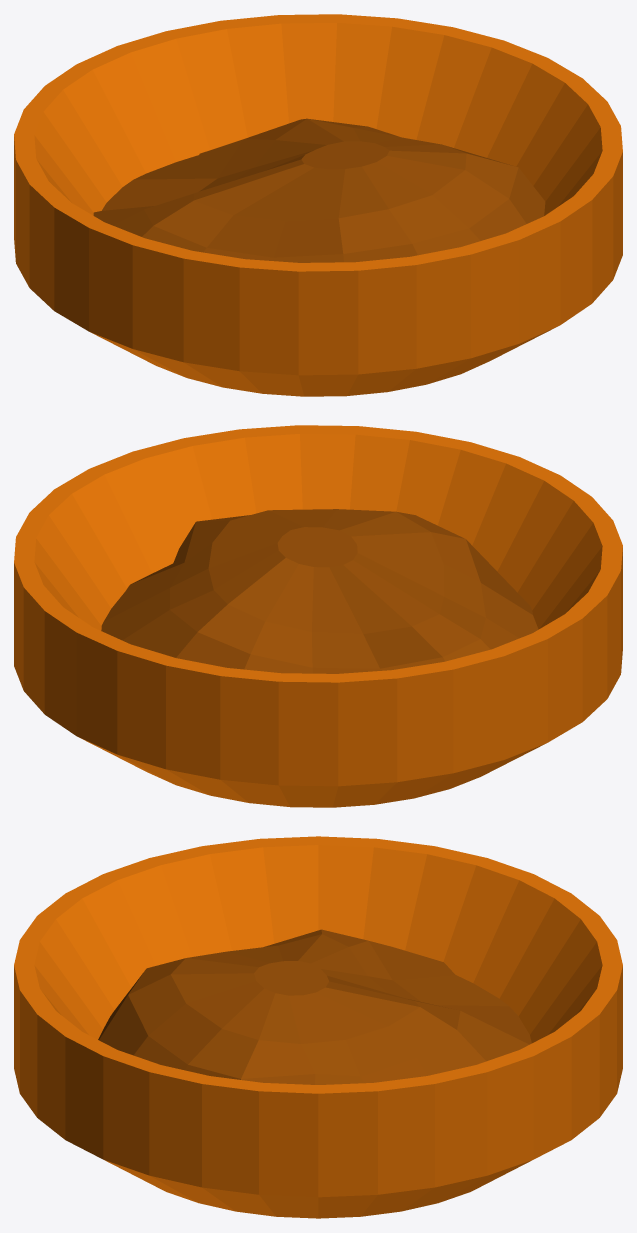
Rendered from GravyPortion.fbx.
The picture shows the model from 3 angles, top to bottom: view 1: azimuth 30°, elevation 25°; view 2: azimuth 150°, elevation 25°; view 3: azimuth 270°, elevation 25°; orthographic projection.
Visible parts, largest first — view 1: Bowl, Gravy; view 2: Bowl, Gravy; view 3: Bowl, Gravy.
Boxes of the visible parts, <box> form: Bowl: <box>14,14,622,396</box>; Gravy: <box>93,118,545,262</box>; Bowl: <box>14,425,622,807</box>; Gravy: <box>101,509,538,673</box>; Bowl: <box>14,836,622,1218</box>; Gravy: <box>98,929,531,1084</box>.
Size of the model in its own units: 34.5 by 10.15 by 34.5.
